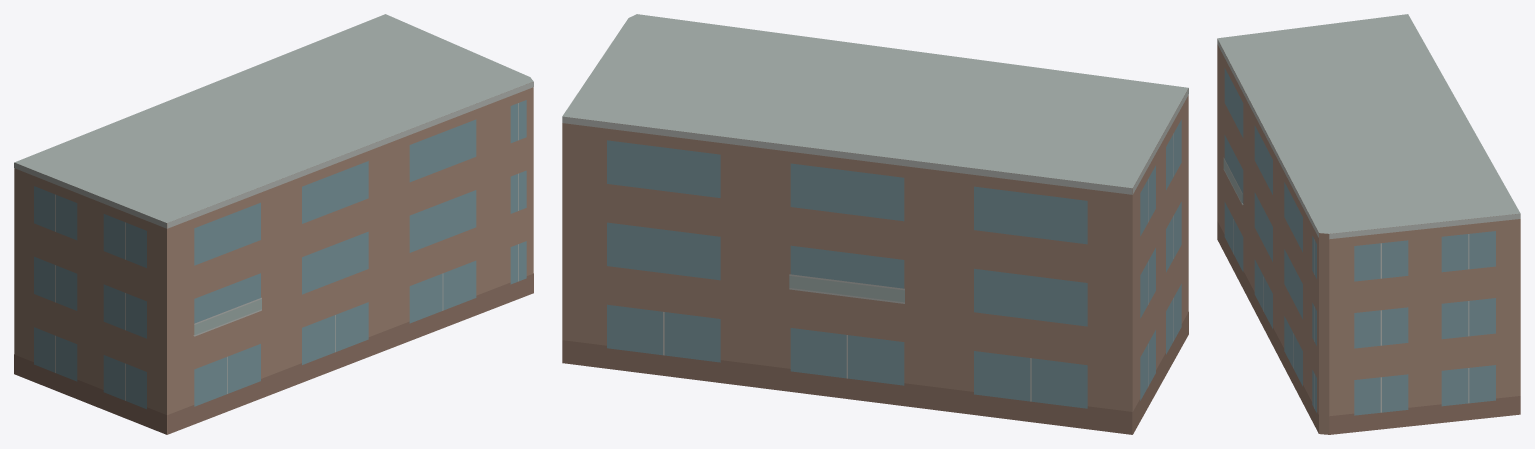
File: survey-upis-32468892.glb
3 views of the same model, side by side, from view 1: azimuth 30°, elevation 25°; view 2: azimuth 150°, elevation 25°; view 3: azimuth 270°, elevation 25° (orthographic). The views are drawn at different scales.
Visible parts, largest first — view 1: survey-upis-32468892.tmp; view 2: survey-upis-32468892.tmp; view 3: survey-upis-32468892.tmp.
Boxes of the visible parts, x1,y1,x2,y2 form: survey-upis-32468892.tmp: (14,14,533,434); survey-upis-32468892.tmp: (562,14,1188,434); survey-upis-32468892.tmp: (1217,14,1520,434).
Bounding box in the file's own units: 21.47 × 9.15 × 12.52.
